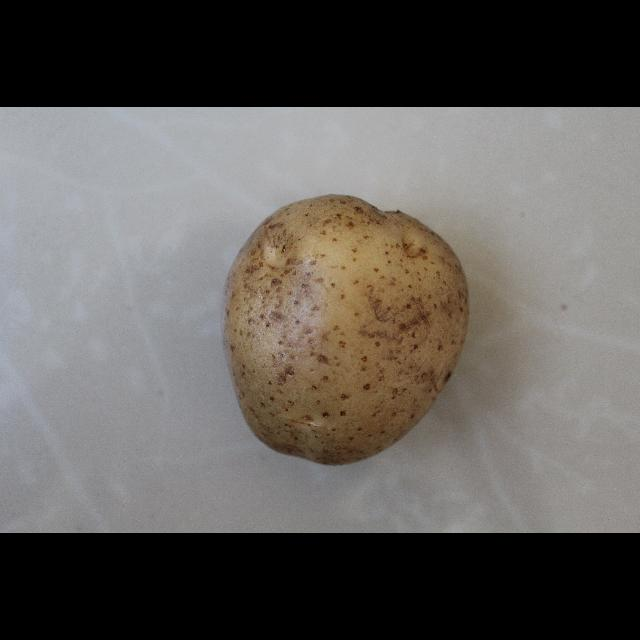Diseased-fungal potato: (216, 186, 469, 472)
